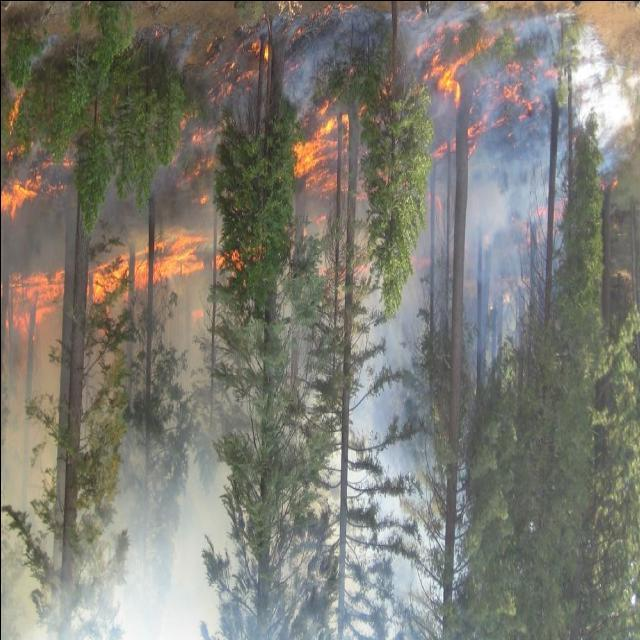Fire: (0, 240, 201, 332), (423, 24, 467, 116), (292, 119, 336, 177), (0, 177, 36, 222)
